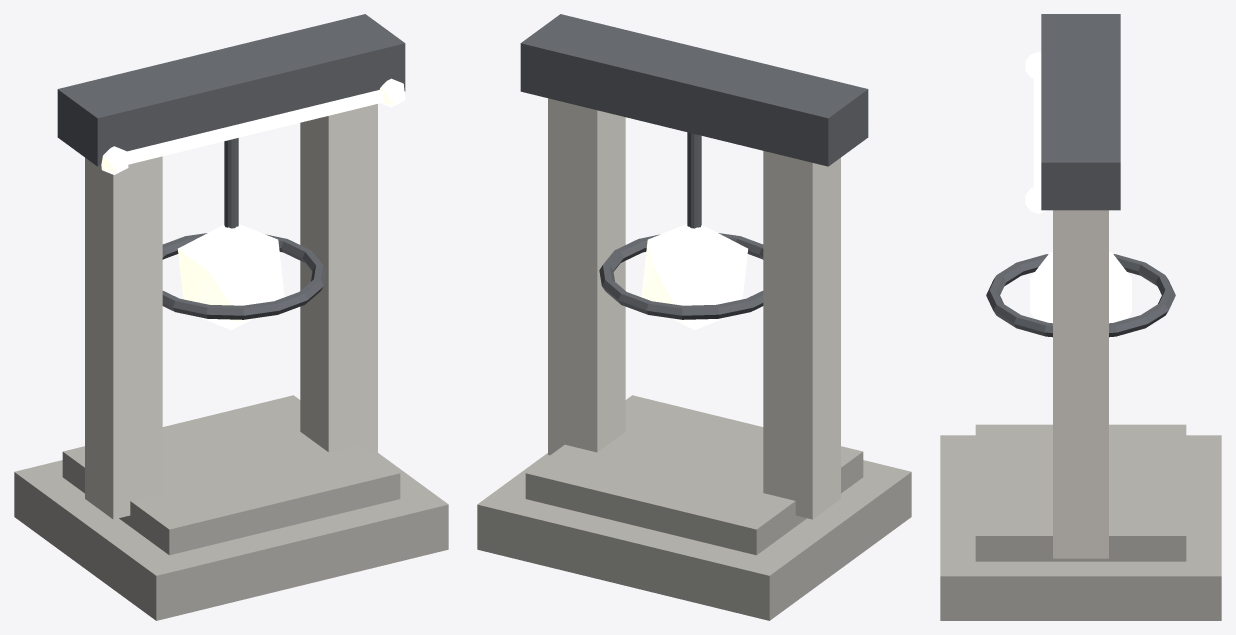
The model's file is LM11_Gateway.glb.
3 renders of one model, left to right at view 1: azimuth 30°, elevation 25°; view 2: azimuth 150°, elevation 25°; view 3: azimuth 270°, elevation 25°, orthographic.
Parts seen in each view (by area): view 1: Base.002, PillarL, Lintel, Step, PillarR, Gateway, NodeRing, Cable, NodeHang, NodeL; view 2: Base.002, Lintel, PillarL, Step, PillarR, Gateway, NodeRing, NodeHang; view 3: Base.002, Step, PillarR, Lintel, NodeRing, Gateway, Cable, NodeR.
Boxes of the visible parts, x1,y1,x2,y2 form: Base.002: (14, 453, 448, 620); PillarL: (85, 156, 162, 519); Lintel: (57, 14, 405, 166); Step: (62, 395, 400, 555); PillarR: (300, 104, 377, 455); Gateway: (178, 224, 284, 330); NodeRing: (162, 233, 326, 319); Cable: (126, 90, 384, 164); NodeHang: (224, 138, 238, 228); NodeL: (101, 146, 128, 174); Base.002: (477, 453, 911, 620); Lintel: (520, 14, 868, 166); PillarL: (763, 151, 840, 519); Step: (525, 395, 863, 555); PillarR: (548, 98, 625, 455); Gateway: (641, 224, 747, 330); NodeRing: (599, 233, 763, 319); NodeHang: (687, 132, 701, 228); Base.002: (940, 435, 1221, 620); Step: (975, 424, 1186, 561); PillarR: (1053, 210, 1108, 558); Lintel: (1041, 14, 1120, 210); NodeRing: (986, 254, 1175, 337); Gateway: (1030, 252, 1131, 338); Cable: (1033, 66, 1041, 186); NodeR: (1025, 185, 1047, 213).
Size of the model in its own units: 2 by 2.9 by 1.6.
